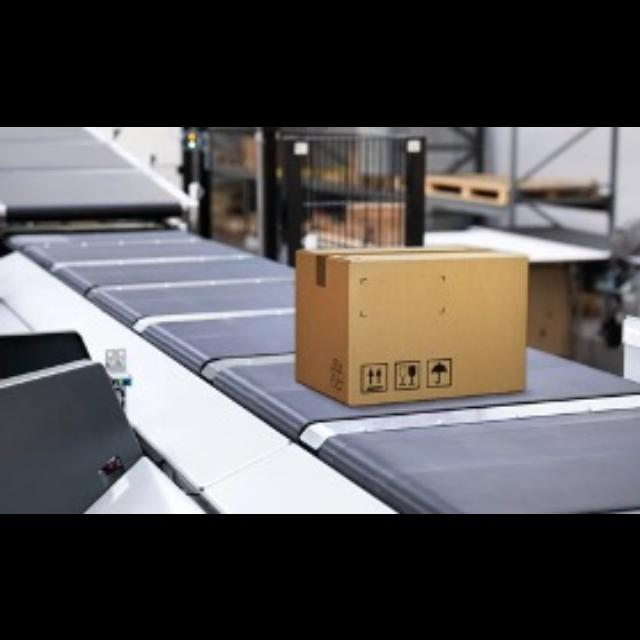box: (294, 243, 528, 394)
